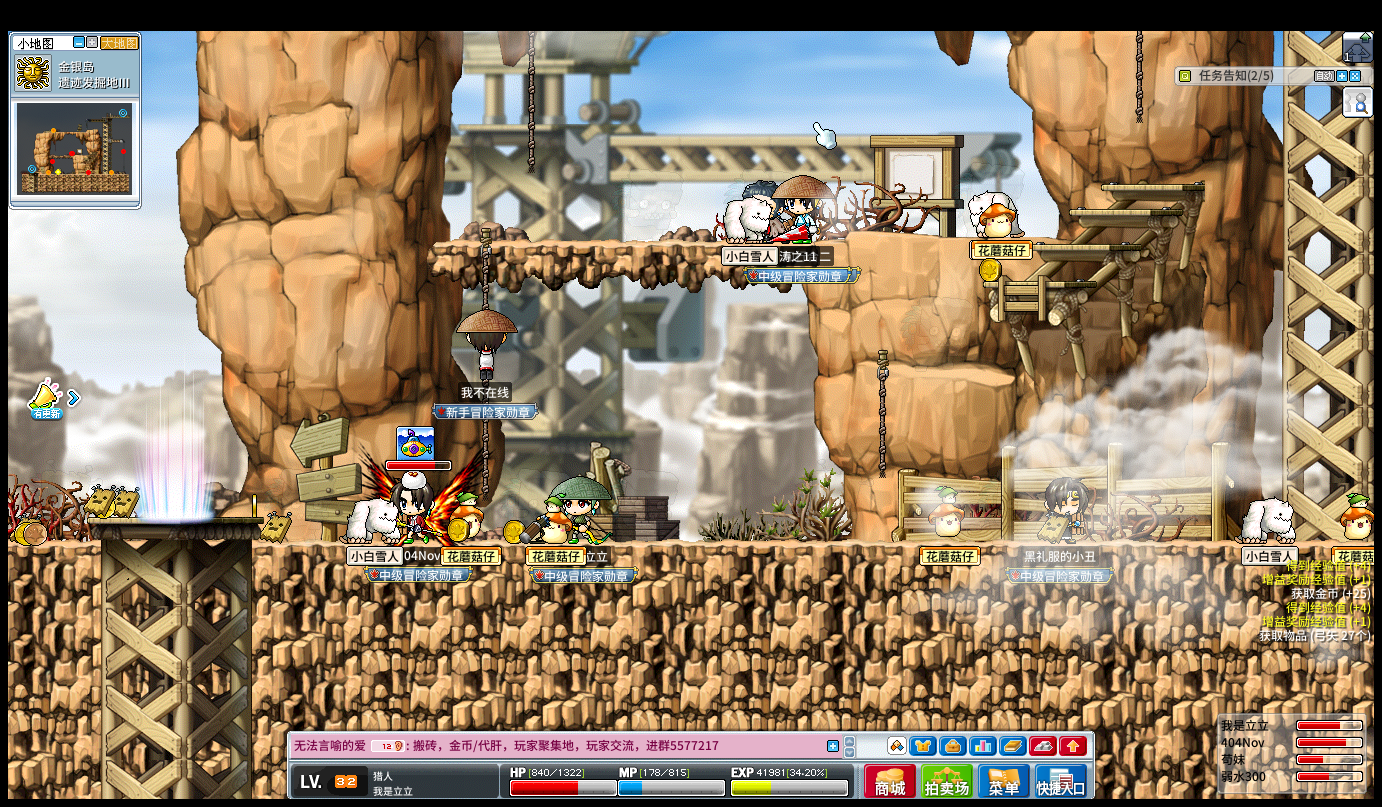floor: (430, 238, 810, 248), (907, 364, 1018, 384), (84, 515, 261, 524), (87, 517, 264, 525), (1066, 205, 1182, 215), (979, 279, 1096, 288), (8, 539, 99, 550), (1030, 243, 1136, 251), (1065, 207, 1179, 214), (1100, 184, 1202, 191)
rope: (875, 350, 887, 481), (527, 30, 536, 173), (477, 229, 492, 309), (1131, 30, 1142, 122), (480, 419, 492, 502)
